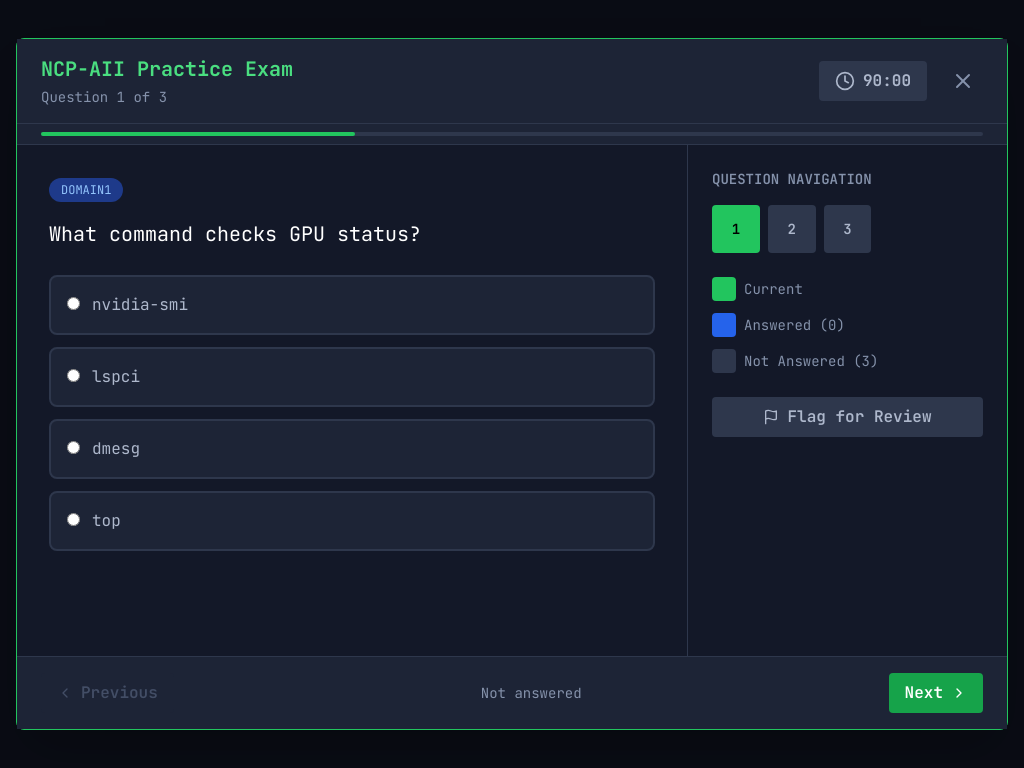
Test case: ExamWorkspace › advances to next question when Next is clicked
Click the button "Next": (936, 693) [889,673,983,713]
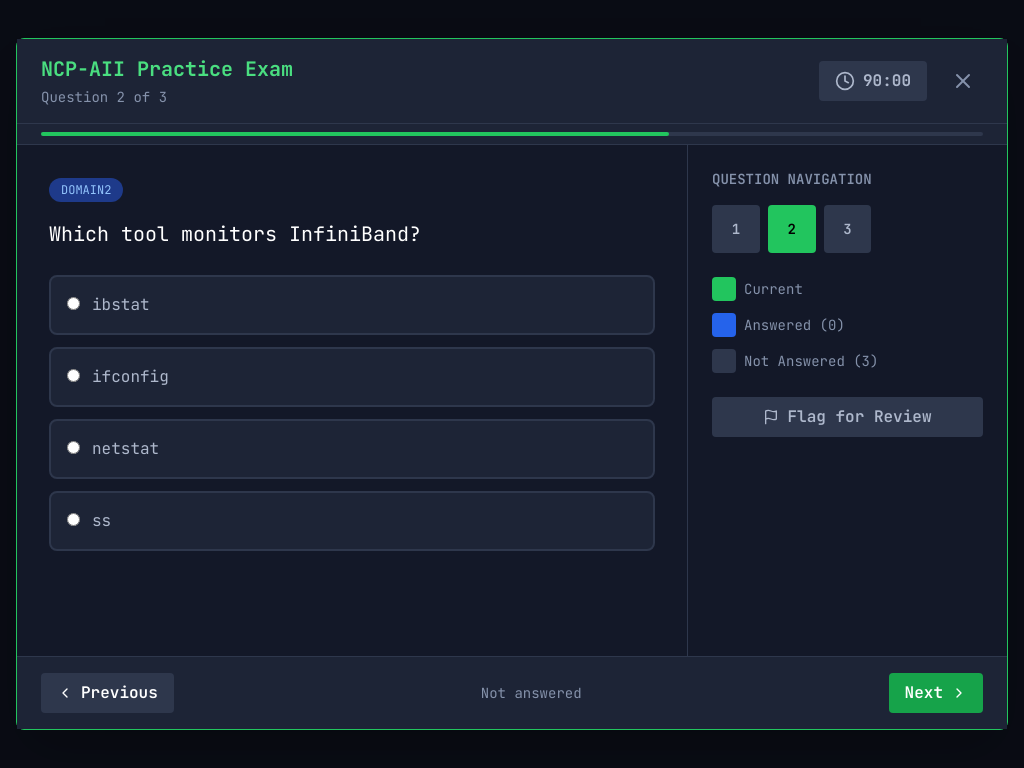
Expected: the text "Question 2 of 3" is shown, [41,88,167,106]
Expected: the heading "Which tool monitors InfiniBand?" is shown, [49,221,421,247]
